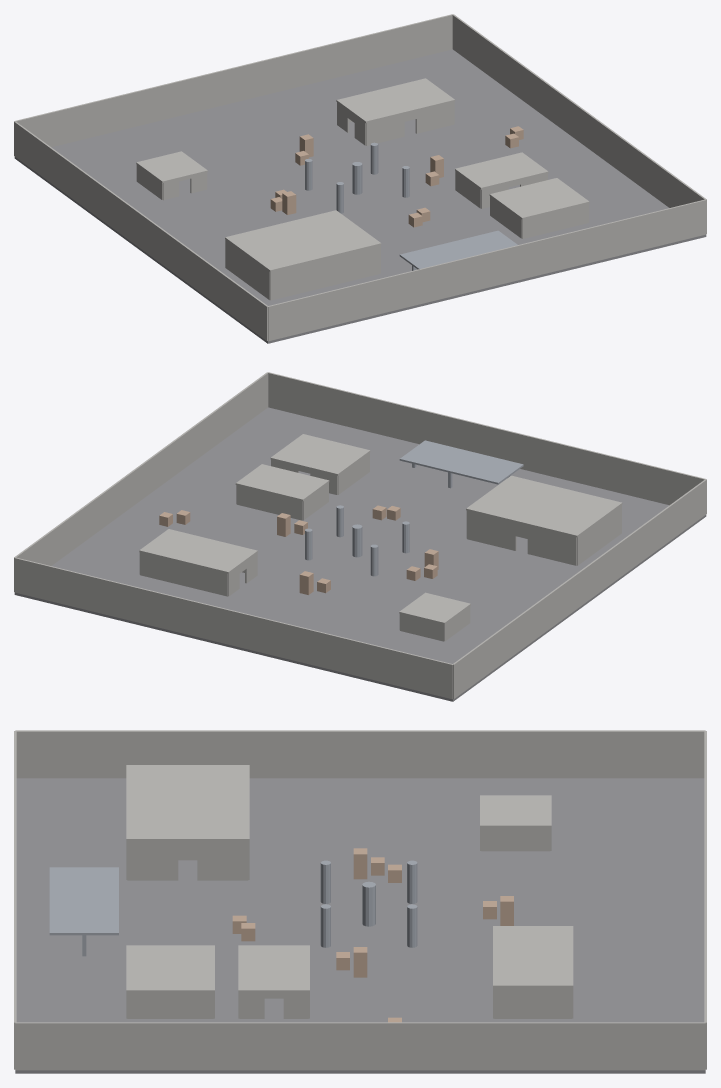
The model's file is Map_Blockout.glb.
The picture shows the model from 3 angles, top to bottom: view 1: azimuth 30°, elevation 25°; view 2: azimuth 150°, elevation 25°; view 3: azimuth 270°, elevation 25°; orthographic projection. The views are drawn at different scales.
Parts seen in each view (by area): view 1: Sol-col, Enceinte_N-col, Enceinte_S-col, Enceinte_O-col, Enceinte_E-col, Hangar_Toit-col, Hangar_Mur_N-col, Depot_Toit-col, Maison_A_Toit-col, Plateforme-col, Maison_B_Toit-col, Hangar_Mur_O-col (+6 smaller); view 2: Sol-col, Enceinte_S-col, Enceinte_N-col, Enceinte_O-col, Enceinte_E-col, Hangar_Toit-col, Depot_Toit-col, Plateforme-col, Maison_A_Toit-col, Depot_Mur_S-col, Maison_B_Toit-col, Hangar_Mur_S_D-col (+7 smaller); view 3: Sol-col, Enceinte_E-col, Enceinte_O-col, Hangar_Toit-col, Depot_Toit-col, Plateforme-col, Maison_A_Toit-col, Maison_B_Toit-col, Depot_Mur_E-col, Local_Toit-col, Maison_A_Mur_E-col, Hangar_Mur_E_G-col (+7 smaller).
Part boxes in pixels (x1,y1,x2,y2): Sol-col: (14,49,706,343); Enceinte_N-col: (268,199,706,341); Enceinte_S-col: (14,14,452,147); Enceinte_O-col: (14,121,268,340); Enceinte_E-col: (452,14,706,233); Hangar_Toit-col: (225,210,381,271); Hangar_Mur_N-col: (270,245,380,300); Depot_Toit-col: (336,78,455,122); Maison_A_Toit-col: (489,178,589,219); Plateforme-col: (399,230,517,269); Maison_B_Toit-col: (455,152,548,189); Hangar_Mur_O-col: (225,239,270,300); Sol-col: (14,407,706,701); Enceinte_S-col: (14,557,452,699); Enceinte_N-col: (267,372,706,505); Enceinte_O-col: (453,479,706,698); Enceinte_E-col: (14,372,268,591); Hangar_Toit-col: (466,475,622,537); Depot_Toit-col: (139,529,257,573); Plateforme-col: (399,440,523,484); Maison_A_Toit-col: (270,434,370,475); Depot_Mur_S-col: (140,552,228,596); Maison_B_Toit-col: (235,464,329,501); Hangar_Mur_S_D-col: (527,525,576,565); Sol-col: (15,778,705,1073); Enceinte_E-col: (15,1022,705,1070); Enceinte_O-col: (15,730,705,778); Hangar_Toit-col: (126,765,249,841); Depot_Toit-col: (493,926,573,987); Plateforme-col: (49,867,118,935); Maison_A_Toit-col: (126,945,214,992); Maison_B_Toit-col: (238,945,309,992); Depot_Mur_E-col: (494,988,571,1018); Local_Toit-col: (480,795,551,827); Maison_A_Mur_E-col: (127,992,213,1018); Hangar_Mur_E_G-col: (127,841,178,880).
Size of the model in its own units: 80.3 by 6.5 by 80.3.
